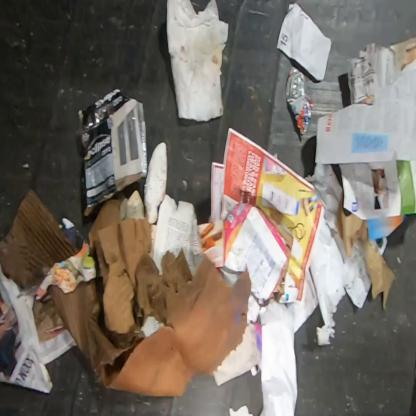cardboard: (93, 218, 191, 348), (78, 88, 147, 215), (0, 188, 81, 290)
metal: (286, 67, 314, 136)
